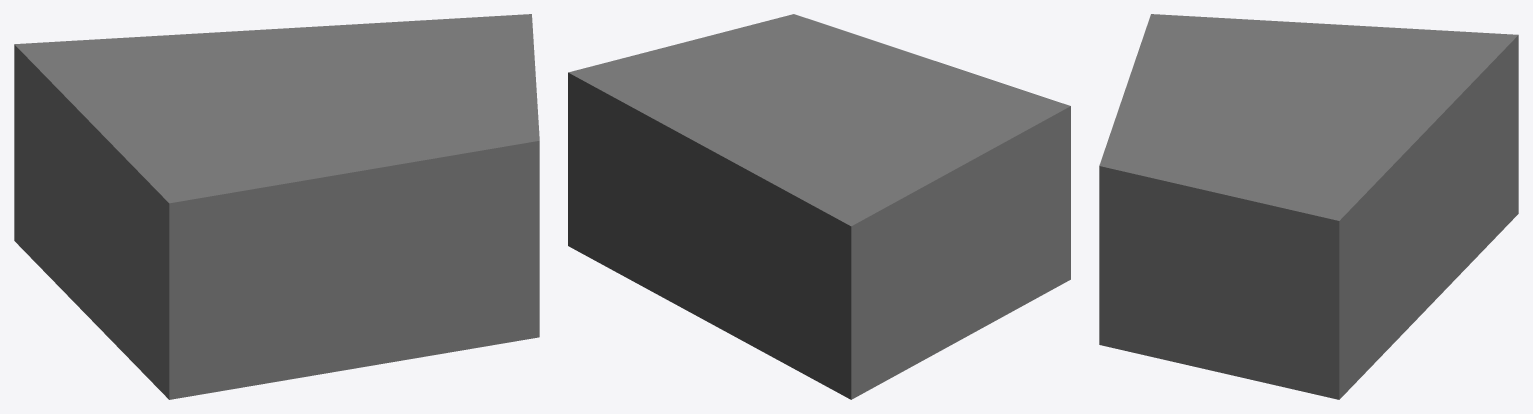
Rendered from base_destroyed_3.glb.
3 renders of one model, left to right at view 1: azimuth 30°, elevation 25°; view 2: azimuth 150°, elevation 25°; view 3: azimuth 270°, elevation 25°, orthographic. The views are drawn at different scales.
Visible parts, largest first — view 1: base_destroyed_3; view 2: base_destroyed_3; view 3: base_destroyed_3.
Boxes of the visible parts, x1,y1,x2,y2 form: base_destroyed_3: (14,14,539,399); base_destroyed_3: (568,14,1070,399); base_destroyed_3: (1099,14,1518,399).
Size of the model in its own units: 0.4963 by 0.2 by 0.4248.
1 material, 1 textured.
